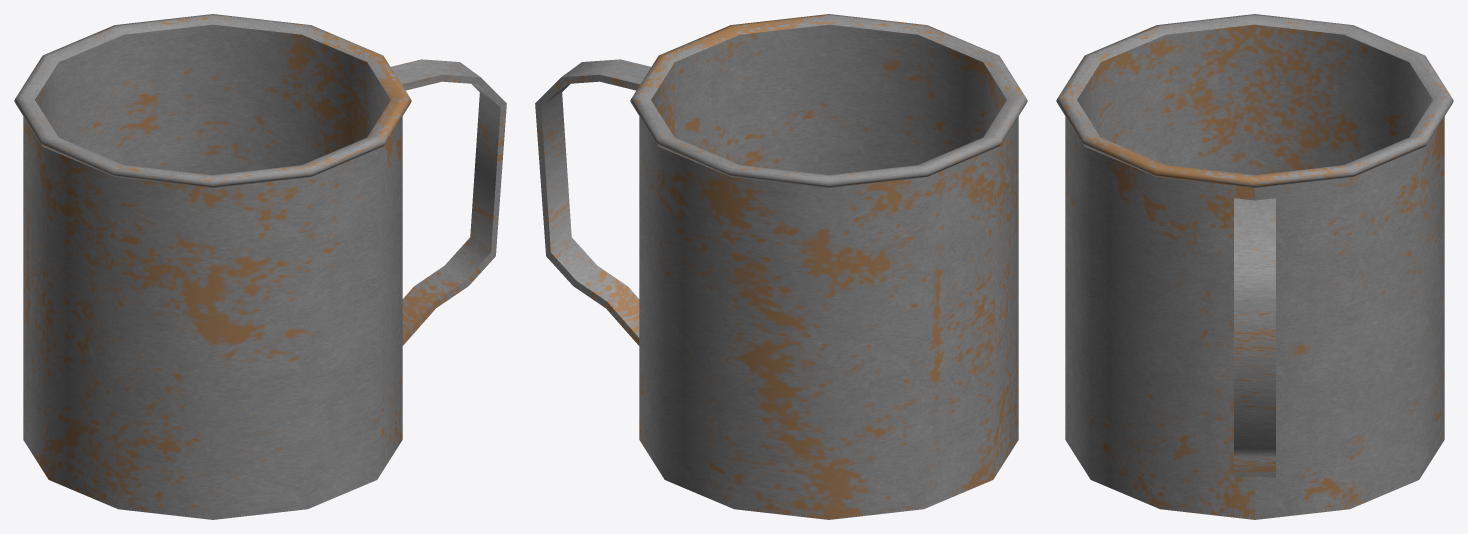
The model's file is Glass.fbx.
3 views of the same model, side by side, from view 1: azimuth 30°, elevation 25°; view 2: azimuth 150°, elevation 25°; view 3: azimuth 270°, elevation 25° (orthographic).
Visible parts, largest first — view 1: Cube; view 2: Cube; view 3: Cube.
Boxes of the visible parts, x1=… form: Cube: x1=14, y1=14, x2=506, y2=519; Cube: x1=535, y1=14, x2=1027, y2=519; Cube: x1=1056, y1=14, x2=1453, y2=519.
Size of the model in its own units: 0.1357 by 0.0978 by 0.1025.
Materials: 1 (1 with a texture image).
